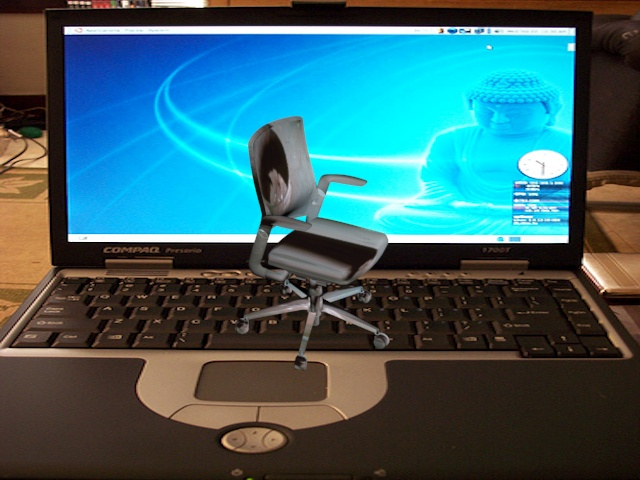desk_chair: (225, 113, 400, 384)
